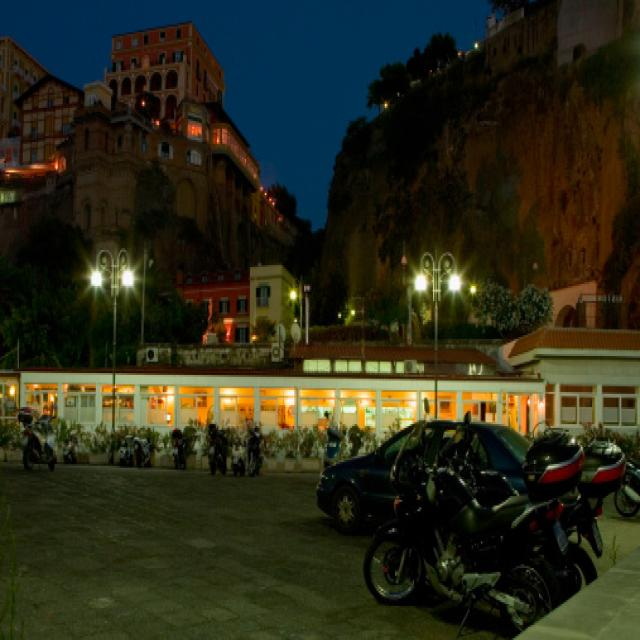Motorbike: (318, 432, 603, 640)
